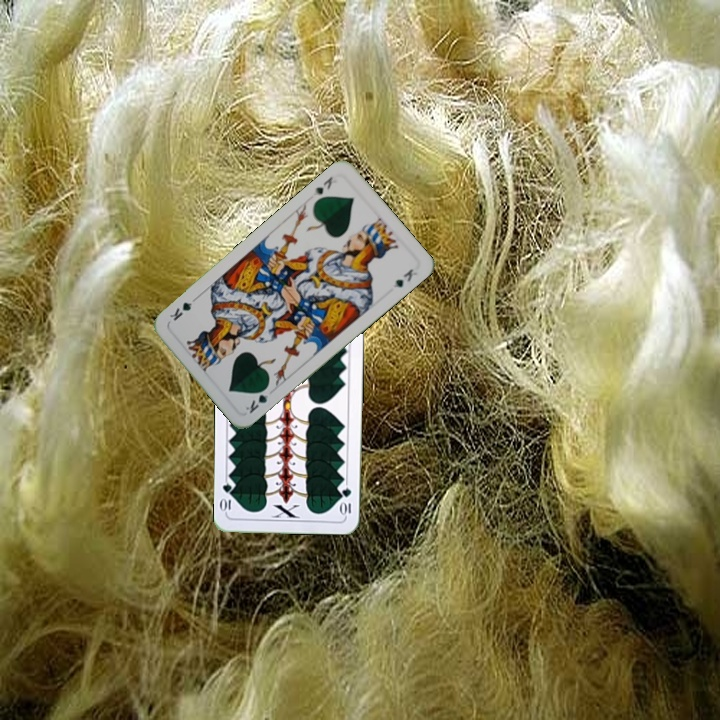G10: (337, 483, 354, 518)
GK: (241, 382, 272, 416), (309, 172, 335, 198)
